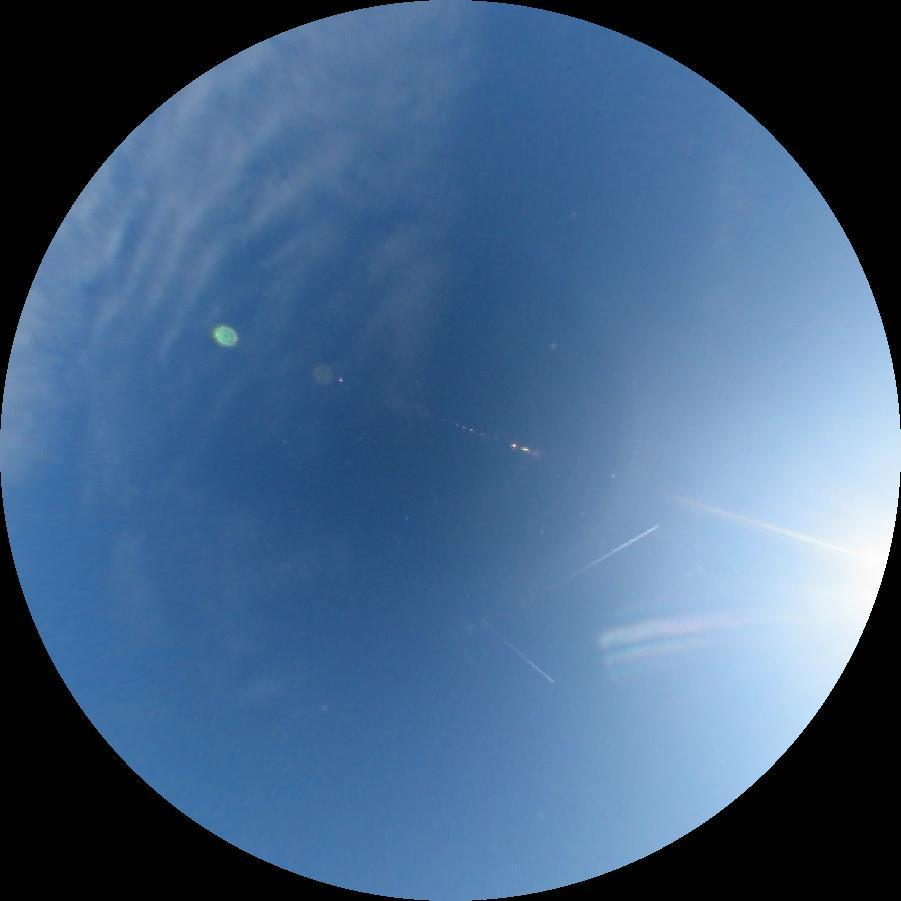contrail young: (568, 523, 661, 580), (485, 623, 555, 684)
parasite: (661, 491, 878, 563), (593, 602, 755, 650)
